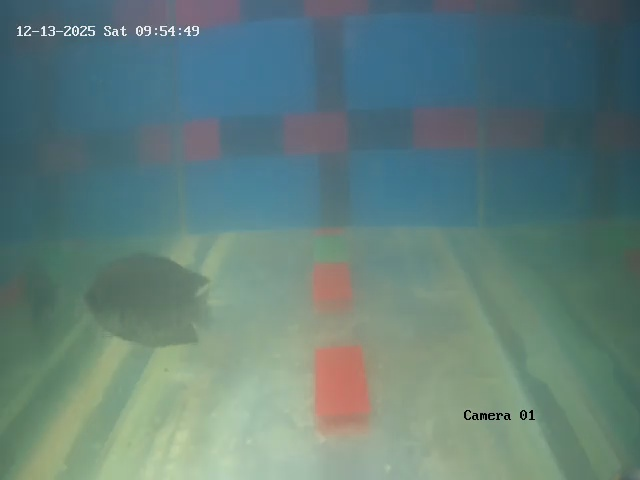fish: (72, 247, 218, 347)
